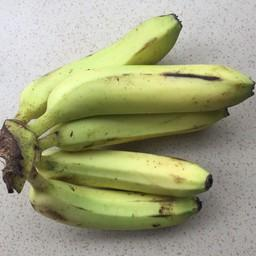Good_banana: (15, 10, 253, 233)
